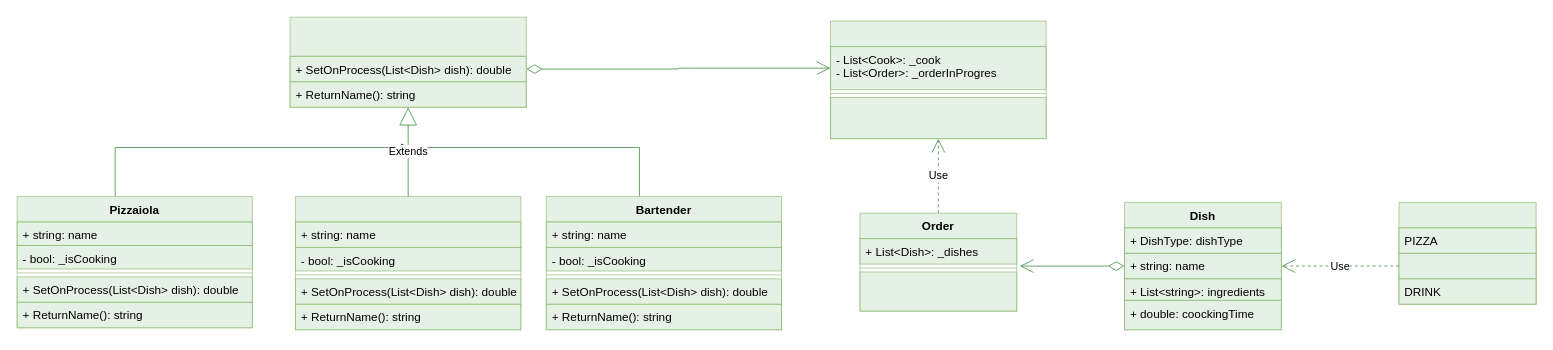
Some shapes in this 1553 by 350 pixel diagram are drawn without their labels. Here are the shapes that lost their labels. From the top down, the box of each, then its label:
(289, 16, 526, 107): "abstract class" Cook
(830, 20, 1046, 139): Restaurant
(830, 97, 1046, 139): + StartOrder(int index): string + AddCook(Cook cook): void
(294, 196, 521, 330): Confectioner
(1398, 201, 1536, 304): "enum" DishType
(1398, 252, 1536, 279): DESSERT
(859, 271, 1017, 311): + CompleteOrder(): string + AddDish(Dish dish): void
